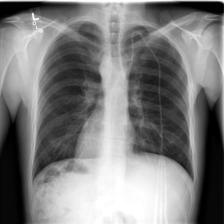normal: (29, 17, 199, 186)
